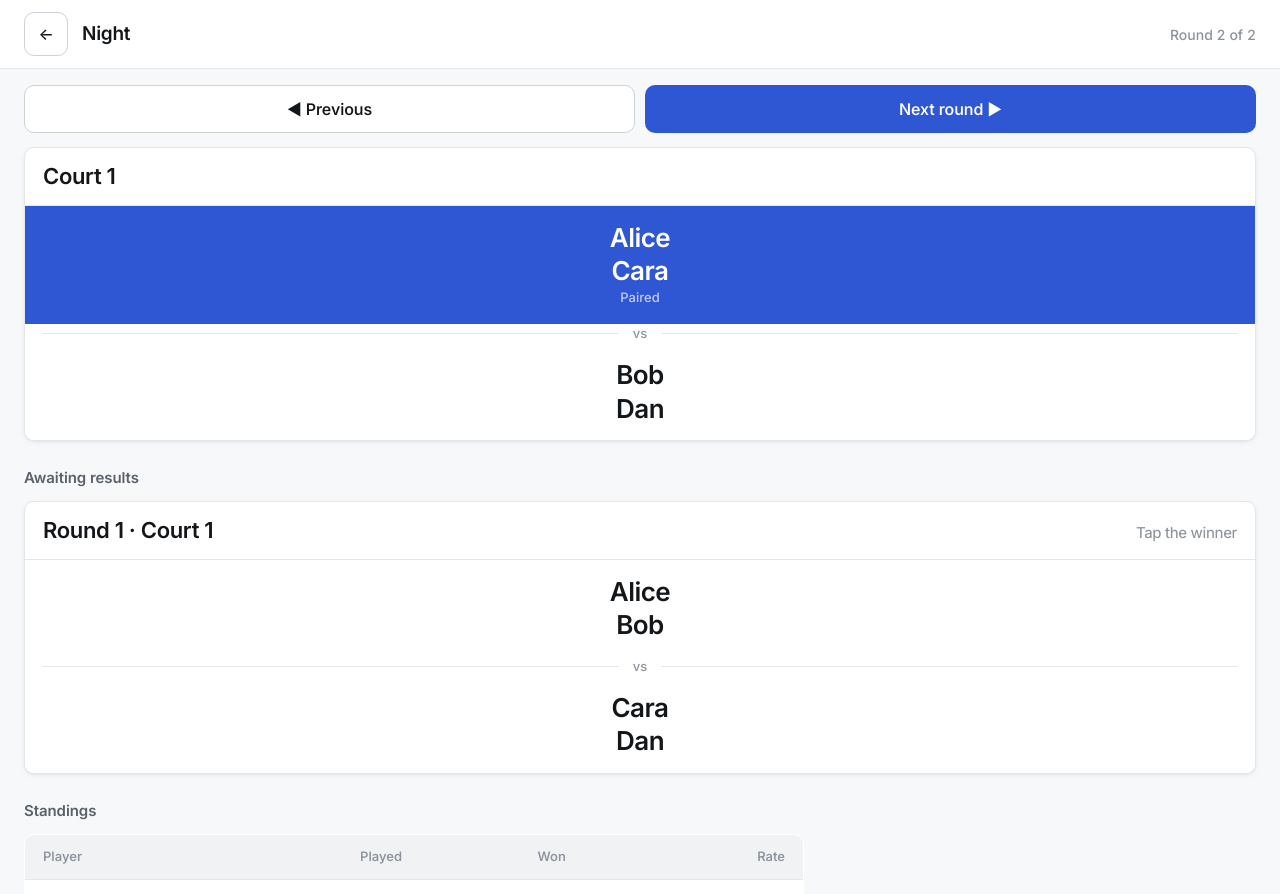
SessionScreen › navigates back through rounds
The image size is (1280, 894).
Click the button with aria-label "Previous round" at (330, 109), box [24,85,635,133]
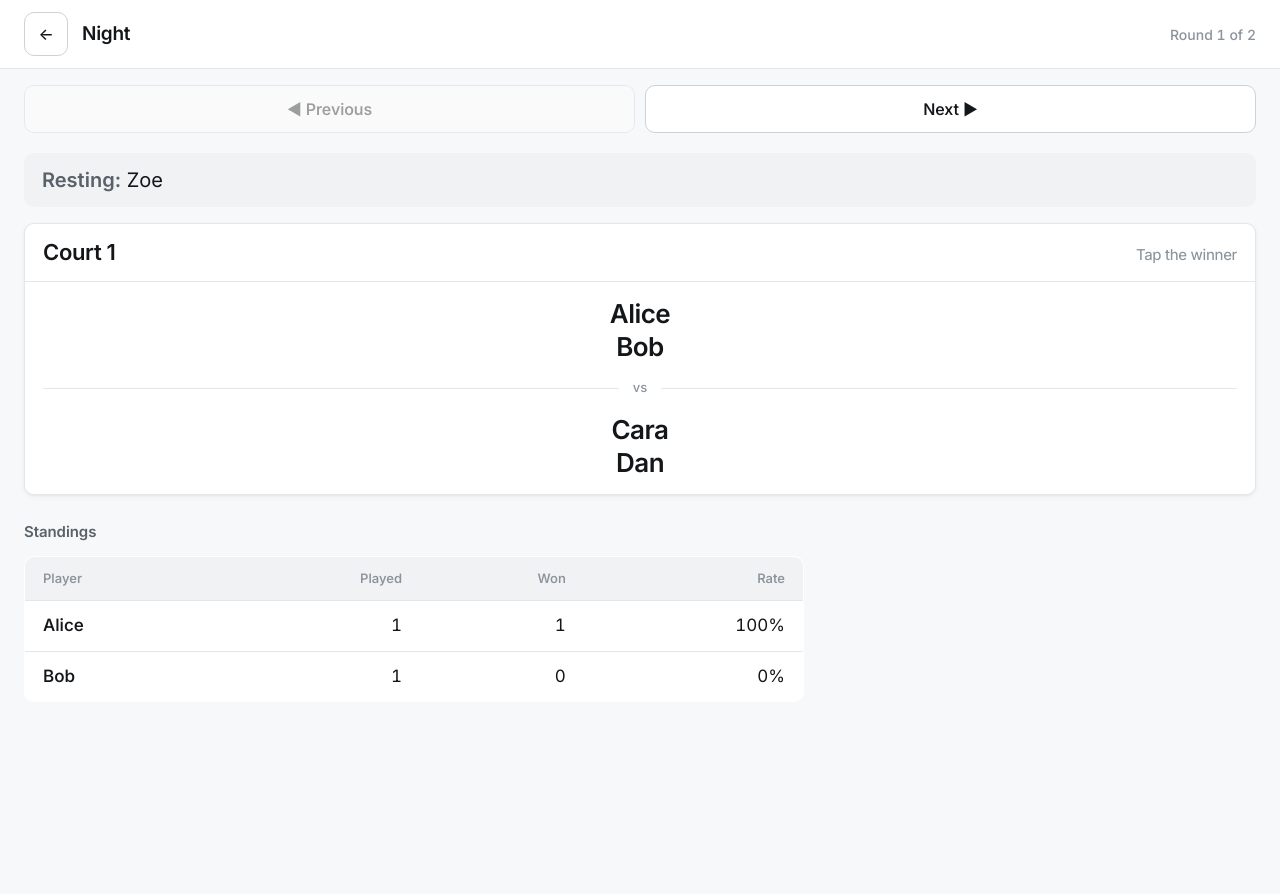
Now the text "Round 1 of 2" is shown, box [1170,24,1256,44]
Now the element showing "Resting: Zoe" is shown, box [24,153,1256,207]
